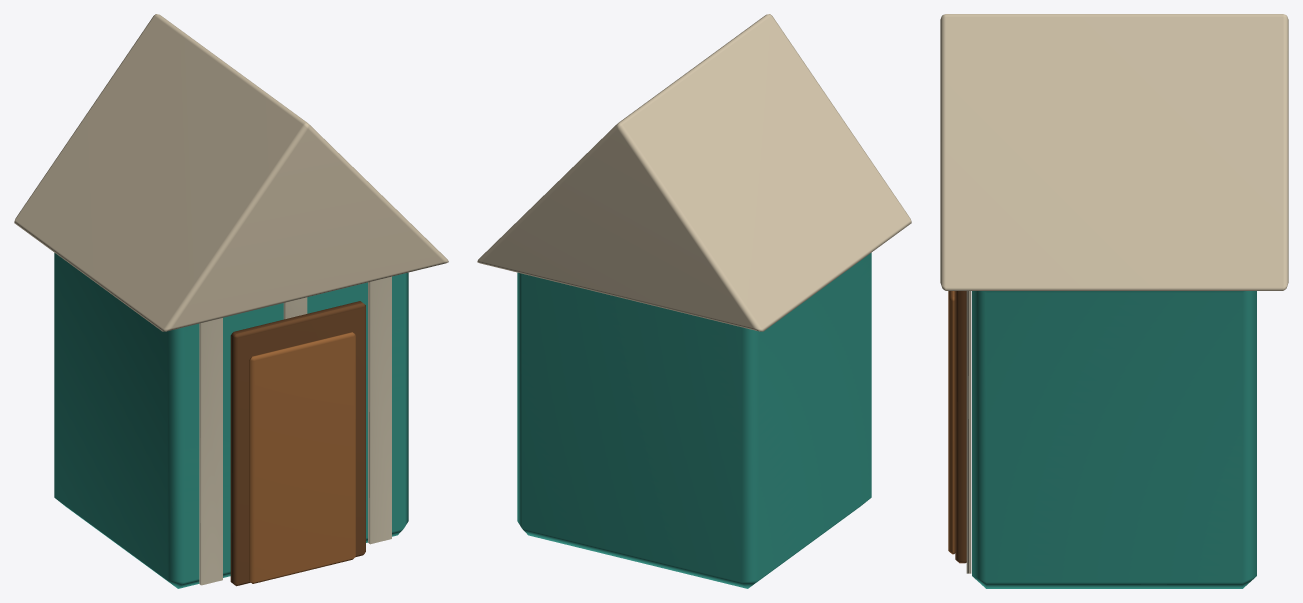
The model's file is beach_hut.glb.
3 views of the same model, side by side, from view 1: azimuth 30°, elevation 25°; view 2: azimuth 150°, elevation 25°; view 3: azimuth 270°, elevation 25° (orthographic). The views are drawn at different scales.
Visible parts, largest first — view 1: beach_hut; view 2: beach_hut; view 3: beach_hut.
Boxes of the visible parts, <box> form: beach_hut: <box>14,14,448,588</box>; beach_hut: <box>477,14,911,588</box>; beach_hut: <box>940,14,1288,588</box>.
Bounding box in the file's own units: 2.37 × 3.58 × 2.2.
